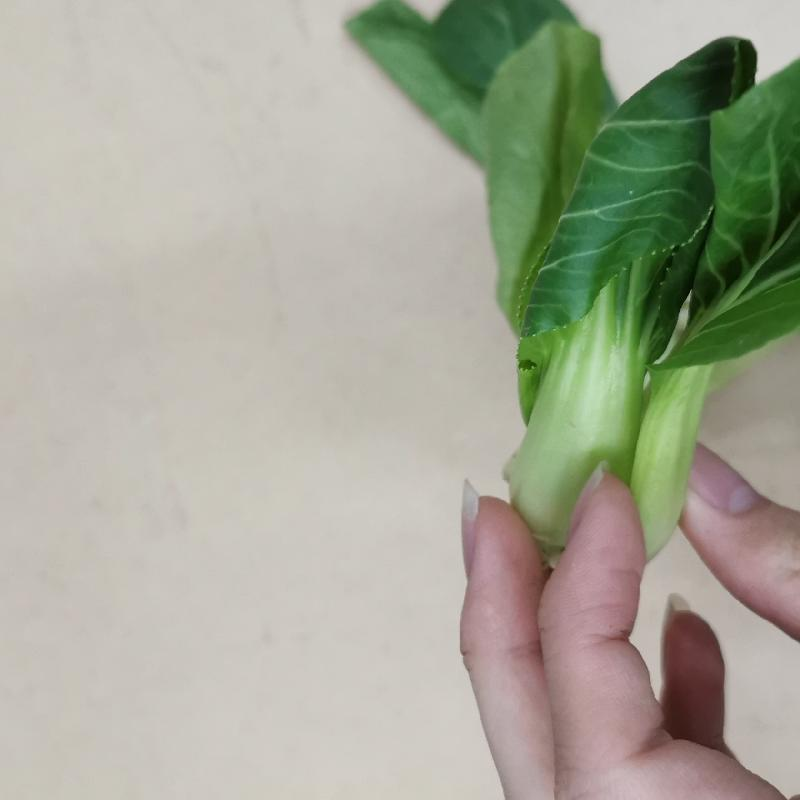green vegatable: (476, 11, 799, 567)
